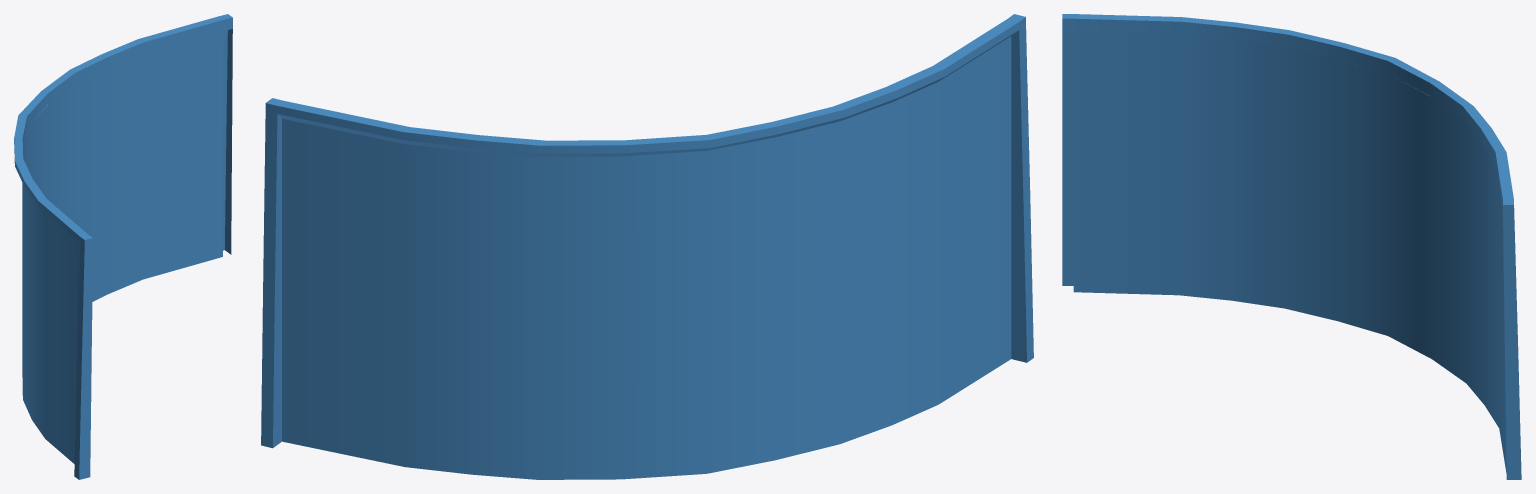
The model's file is Pod_Wall_Cor_C.fbx.
3 renders of one model, left to right at view 1: azimuth 30°, elevation 25°; view 2: azimuth 150°, elevation 25°; view 3: azimuth 270°, elevation 25°, orthographic. The views are drawn at different scales.
Visible parts, largest first — view 1: Pod_Wall_Cor_C; view 2: Pod_Wall_Cor_C; view 3: Pod_Wall_Cor_C.
Boxes of the visible parts, left/top/right/bottom form: Pod_Wall_Cor_C: left=14, top=14, right=232, bottom=479; Pod_Wall_Cor_C: left=261, top=14, right=1033, bottom=479; Pod_Wall_Cor_C: left=1062, top=14, right=1521, bottom=479.
Size of the model in its own units: 930 by 615 by 930.
